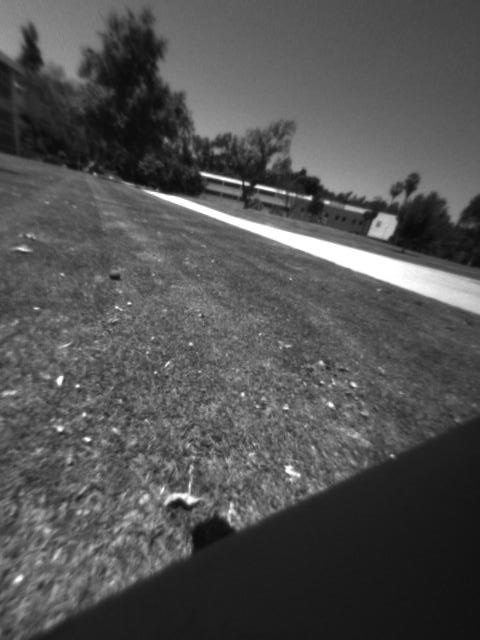dogtoy: (98, 263, 132, 287)
